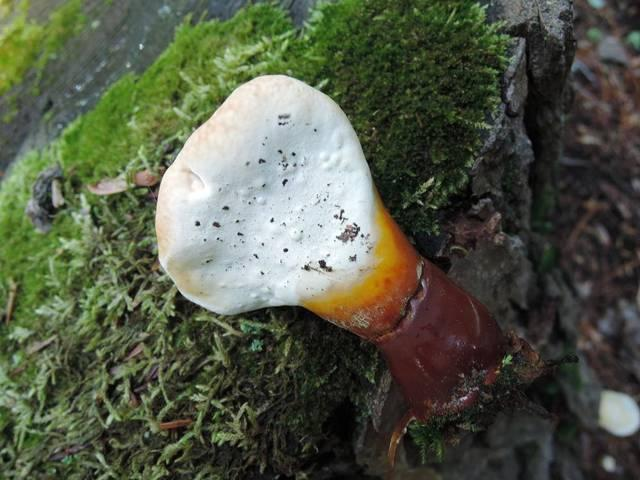poisonous_mushroom: (133, 65, 523, 399)
